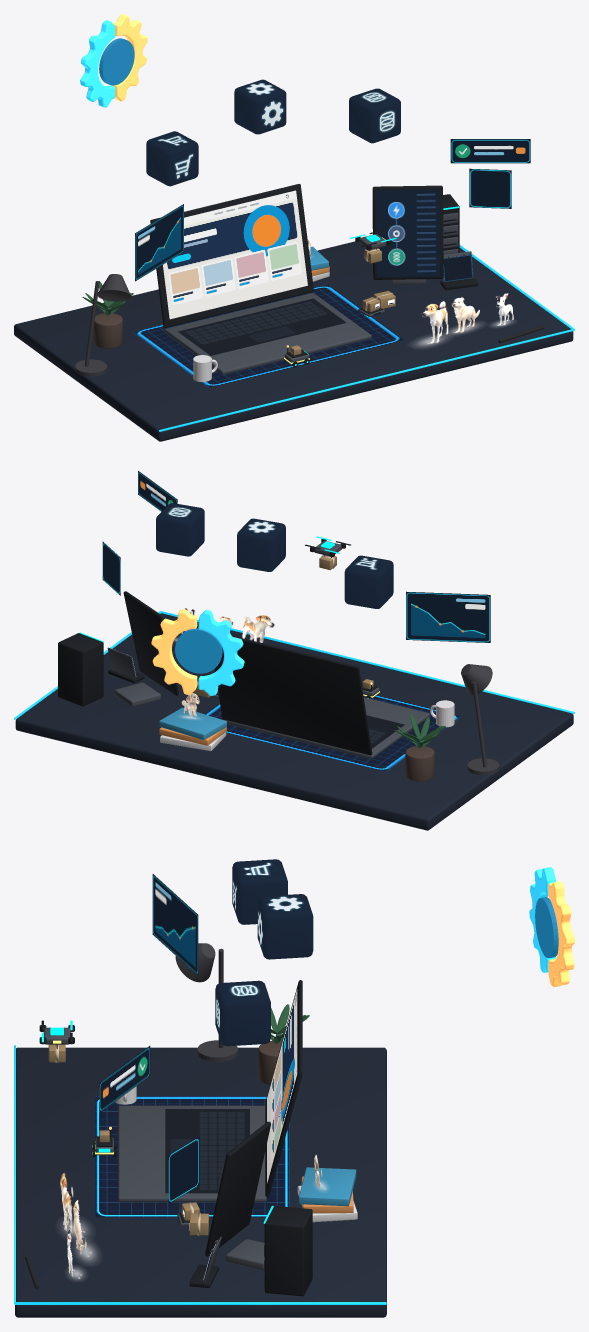
3 renders of one model, top to bottom at view 1: azimuth 30°, elevation 25°; view 2: azimuth 150°, elevation 25°; view 3: azimuth 270°, elevation 25°, orthographic. The views are drawn at different scales.
Visible parts, largest first — view 1: desk, laptop_screen, tablet_screen, laptop_base, desk_mat, laptop_keys, Cube.004, cube_cart, cube_gear, holo_chart, cube_db, holo_order (+10 smaller); view 2: desk, Cube.004, holo_chart, desk_mat, rack_frame, cube_cart, cube_db, cube_gear, tablet, laptop_base, logo_left_mesh, logo_right_mesh (+13 smaller); view 3: desk, laptop_base, desk_mat, laptop_keys, rack_frame, tablet, cube_gear, cube_db, holo_chart, laptop_screen, cube_cart, book_2 (+11 smaller).
Boxes of the visible parts, box(x1,y1,x2,y2) form: desk: box(14, 241, 573, 441); laptop_screen: box(163, 190, 307, 319); tablet_screen: box(376, 189, 440, 277); laptop_base: box(164, 293, 371, 374); desk_mat: box(132, 284, 403, 387); laptop_keys: box(178, 298, 346, 355); Cube.004: box(150, 184, 313, 327); cube_cart: box(146, 131, 198, 186); cube_gear: box(234, 79, 286, 134); holo_chart: box(135, 204, 183, 281); cube_db: box(349, 88, 400, 143); holo_order: box(450, 139, 530, 163); desk: box(15, 613, 573, 830); Cube.004: box(214, 635, 372, 755); holo_chart: box(406, 591, 490, 642); desk_mat: box(205, 695, 462, 771); rack_frame: box(58, 633, 103, 706); cube_cart: box(344, 555, 393, 608); cube_db: box(156, 503, 204, 556); cube_gear: box(237, 518, 285, 571); tablet: box(123, 591, 178, 695); laptop_base: box(224, 697, 429, 758); logo_left_mesh: box(198, 609, 244, 695); logo_right_mesh: box(151, 609, 197, 695); desk: box(15, 1047, 386, 1317); laptop_base: box(118, 1105, 266, 1202); desk_mat: box(95, 1096, 289, 1217); laptop_keys: box(165, 1109, 249, 1193); rack_frame: box(264, 1206, 312, 1296); tablet: box(205, 1121, 270, 1256); cube_gear: box(257, 894, 313, 959); cube_db: box(215, 980, 270, 1046); holo_chart: box(152, 874, 198, 975); laptop_screen: box(267, 989, 297, 1183); cube_cart: box(232, 859, 287, 924); book_2: box(299, 1167, 356, 1206).
Bounding box in the file's own units: 3.63 × 1.9 × 3.32.
Materials: 66 (41 with a texture image).
